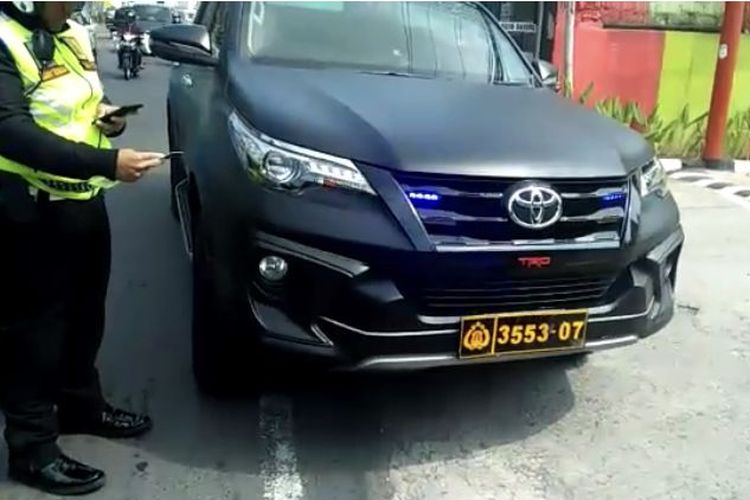plate: (497, 316, 585, 351)
